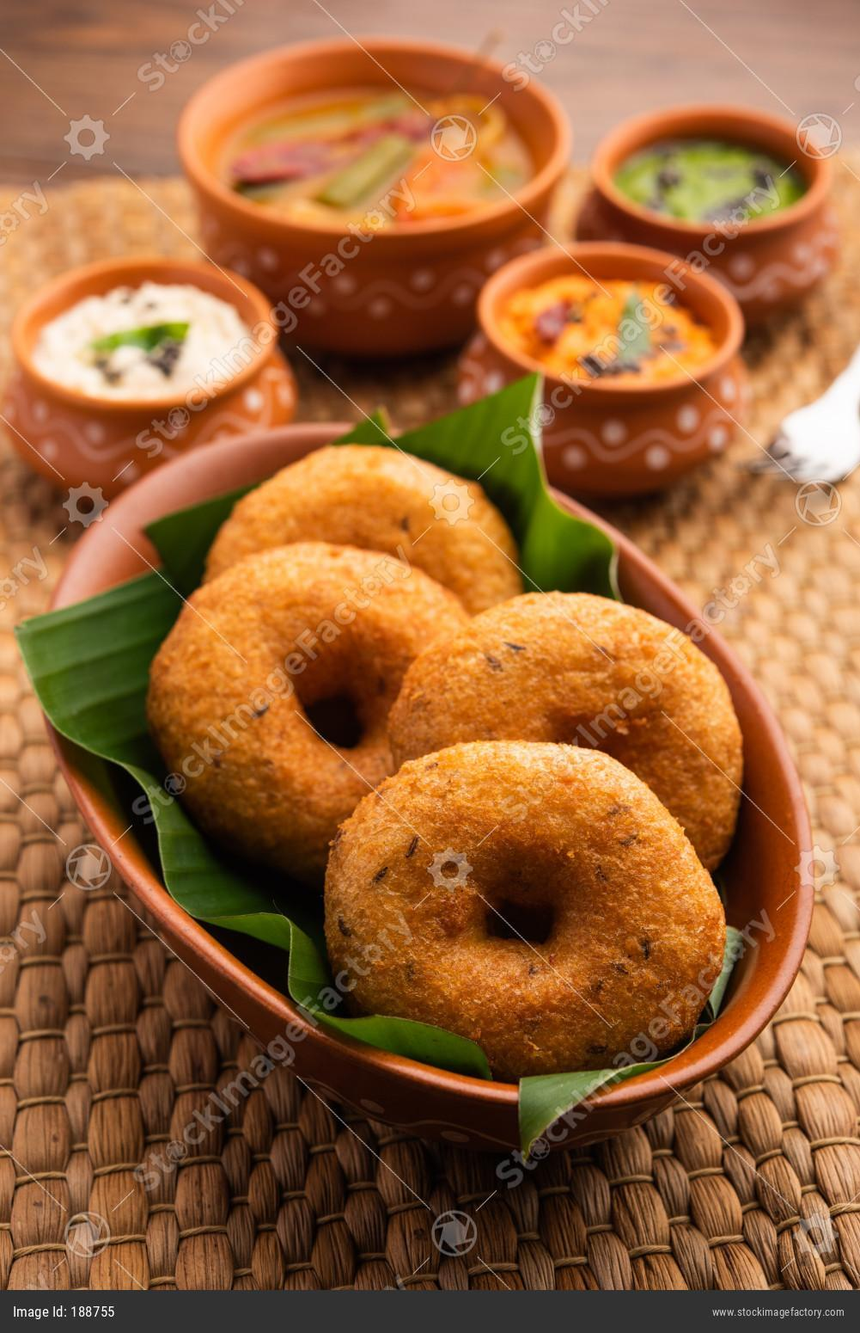mvada: (255, 517, 675, 1017)
